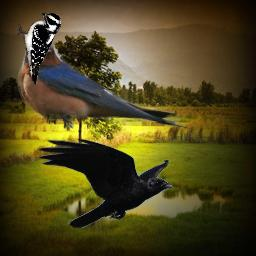Crow: (37, 137, 175, 228)
Swallow: (18, 40, 194, 131)
Woodpecker: (17, 13, 61, 87)
